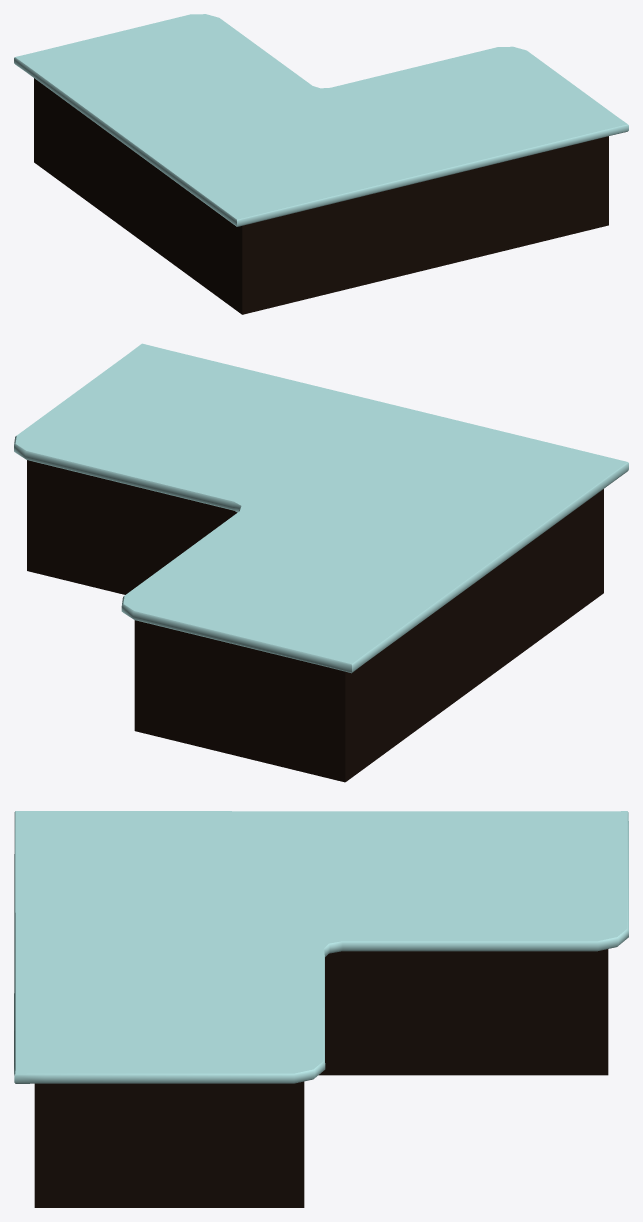
File: Counter corner 2.obj
The picture shows the model from 3 angles, top to bottom: view 1: azimuth 30°, elevation 25°; view 2: azimuth 150°, elevation 25°; view 3: azimuth 270°, elevation 25°; orthographic projection. The views are drawn at different scales.
Parts seen in each view (by area): view 1: Cube.005, Cube.004; view 2: Cube.005, Cube.004; view 3: Cube.005, Cube.004.
Part boxes in pixels (bbox=[...]): Cube.005: bbox=[14, 14, 628, 226]; Cube.004: bbox=[34, 78, 608, 314]; Cube.005: bbox=[14, 343, 628, 673]; Cube.004: bbox=[27, 460, 603, 782]; Cube.005: bbox=[14, 811, 628, 1083]; Cube.004: bbox=[34, 949, 608, 1207].
Size of the model in its own units: 4.63 by 1.16 by 4.56.
